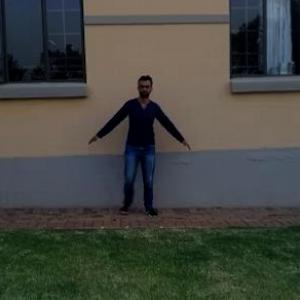land: (88, 78, 186, 227)
